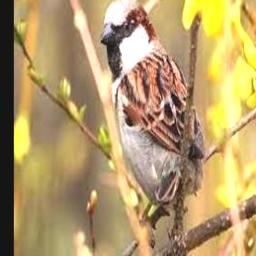Sparrow: (99, 0, 205, 225)
